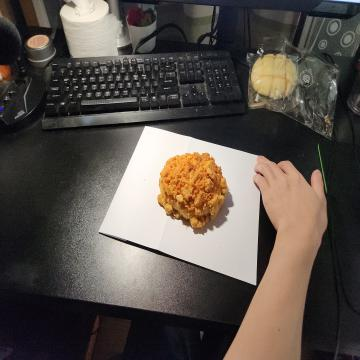soboru_bread: (156, 151, 230, 235)
